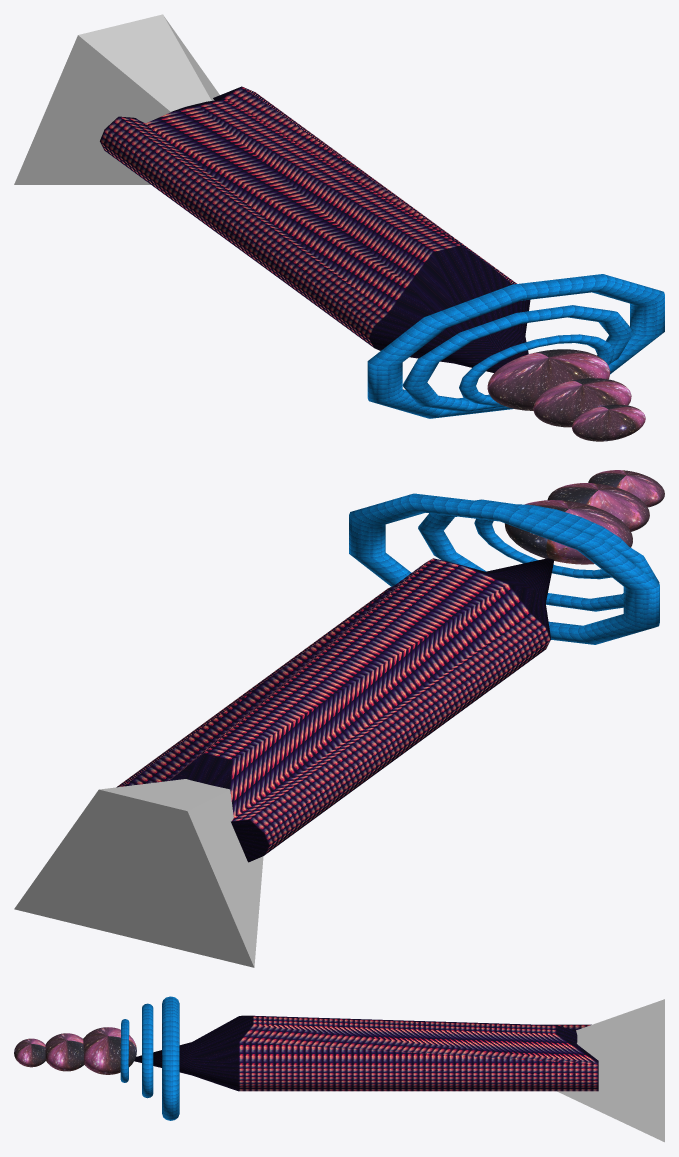
File: Gun.FBX
The picture shows the model from 3 angles, top to bottom: view 1: azimuth 30°, elevation 25°; view 2: azimuth 150°, elevation 25°; view 3: azimuth 270°, elevation 25°; orthographic projection. The views are drawn at different scales.
Visible parts, largest first — view 1: Gun, Pyramid001, Torus003, Torus002, Sphere001, Sphere002, Torus001, Sphere003; view 2: Gun, Pyramid001, Torus003, Torus002, Sphere001, Sphere002, Torus001, Sphere003; view 3: Gun, Pyramid001, Torus003, Sphere001, Sphere002, Torus002, Sphere003, Torus001.
Part boxes in pixels (x1,y1,x2,y2): Gun: (100,86,530,372); Pyramid001: (14,14,219,184); Torus003: (367,274,664,418); Torus002: (402,305,633,412); Sphere001: (487,349,610,410); Sphere002: (533,378,631,427); Torus001: (459,334,614,405); Sphere003: (572,404,645,441); Gun: (116,558,554,862); Pyramid001: (14,779,263,967); Torus003: (349,493,659,644); Torus002: (418,499,659,611); Sphere001: (504,500,632,564); Sphere002: (547,483,649,531); Torus001: (474,504,627,579); Sphere003: (588,470,664,507); Gun: (134,1015,598,1091); Pyramid001: (557,999,664,1142); Torus003: (162,996,179,1120); Sphere001: (83,1027,136,1074); Sphere002: (45,1033,84,1071); Torus002: (142,1003,153,1098); Sphere003: (14,1038,45,1067); Torus001: (120,1019,129,1082).
Bounding box in the file's own units: 42.2 × 18.88 × 121.
